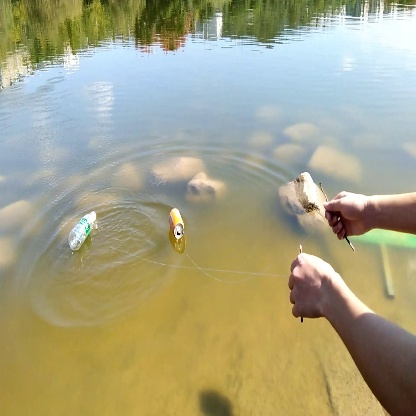bottle: (66, 207, 101, 254), (166, 204, 190, 242)
